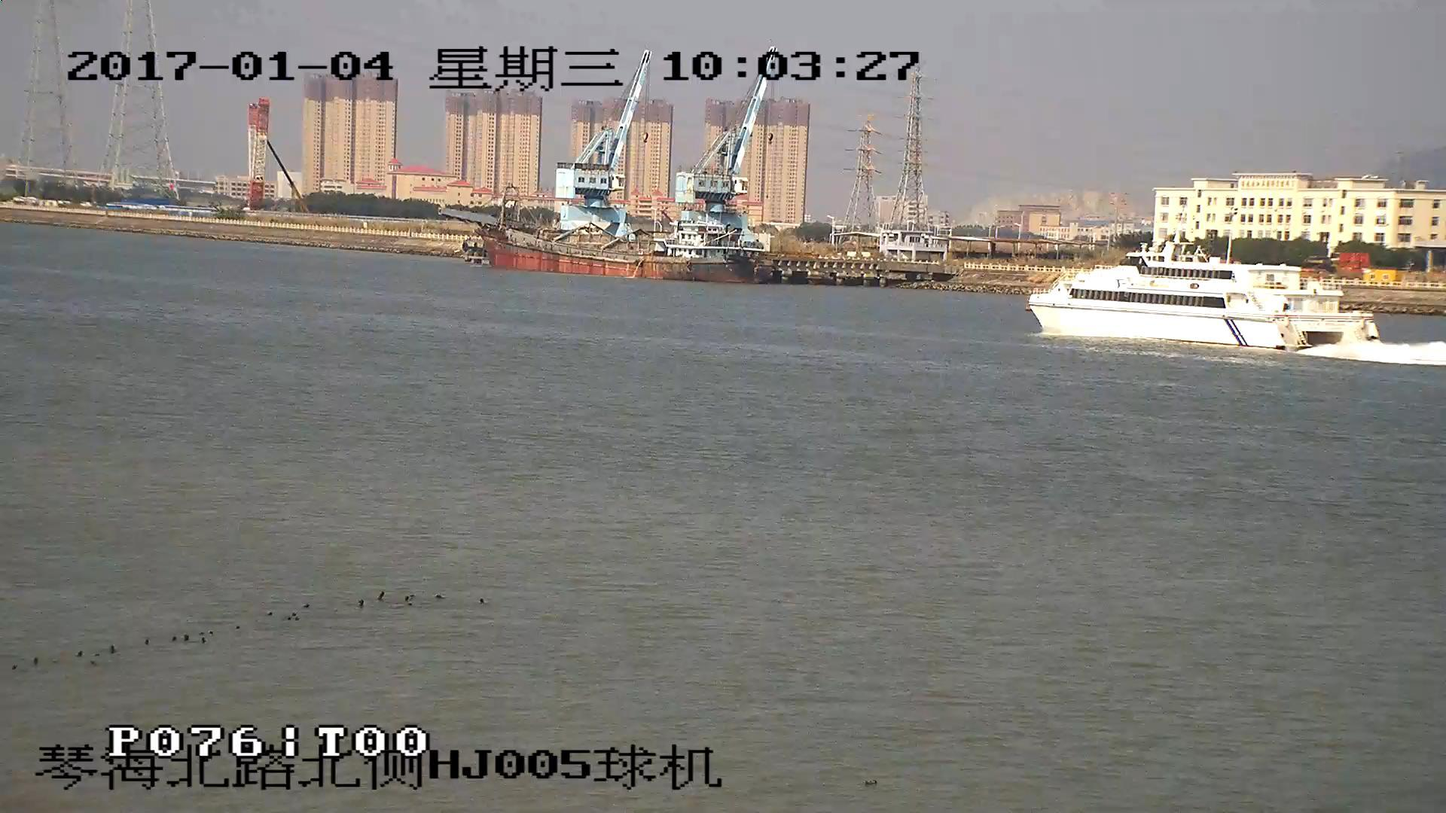passenger ship: (1027, 198, 1373, 355)
